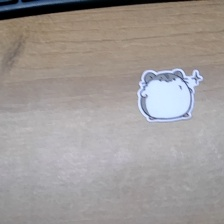mouse: (135, 66, 203, 123)
